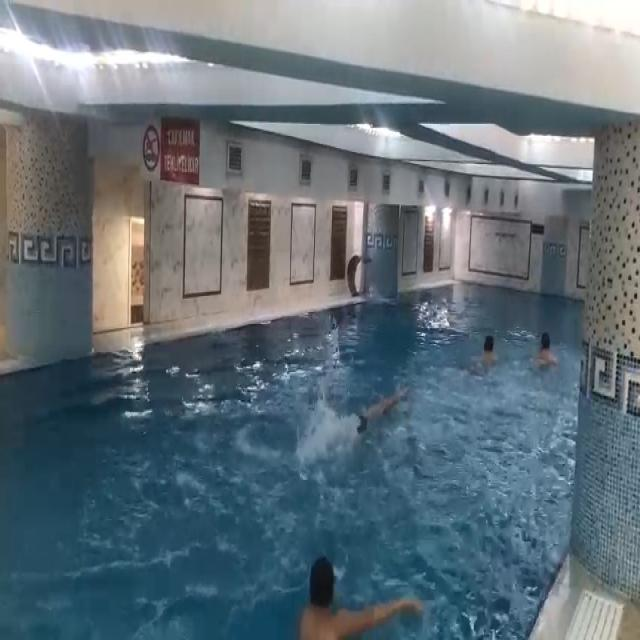Drowning: (306, 389, 411, 444)
Swimming: (298, 555, 424, 640), (473, 326, 500, 368), (534, 330, 560, 372)
